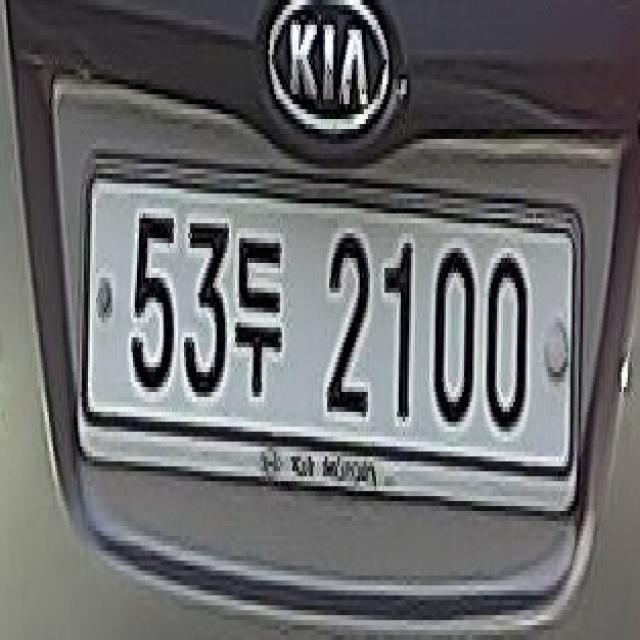0: (428, 233, 482, 447), (484, 238, 538, 452)
1: (384, 238, 424, 432)
2: (319, 213, 378, 427)
3: (184, 208, 233, 412)
5: (129, 203, 176, 402)
du: (231, 228, 290, 412)
license_plate: (78, 144, 582, 531)
